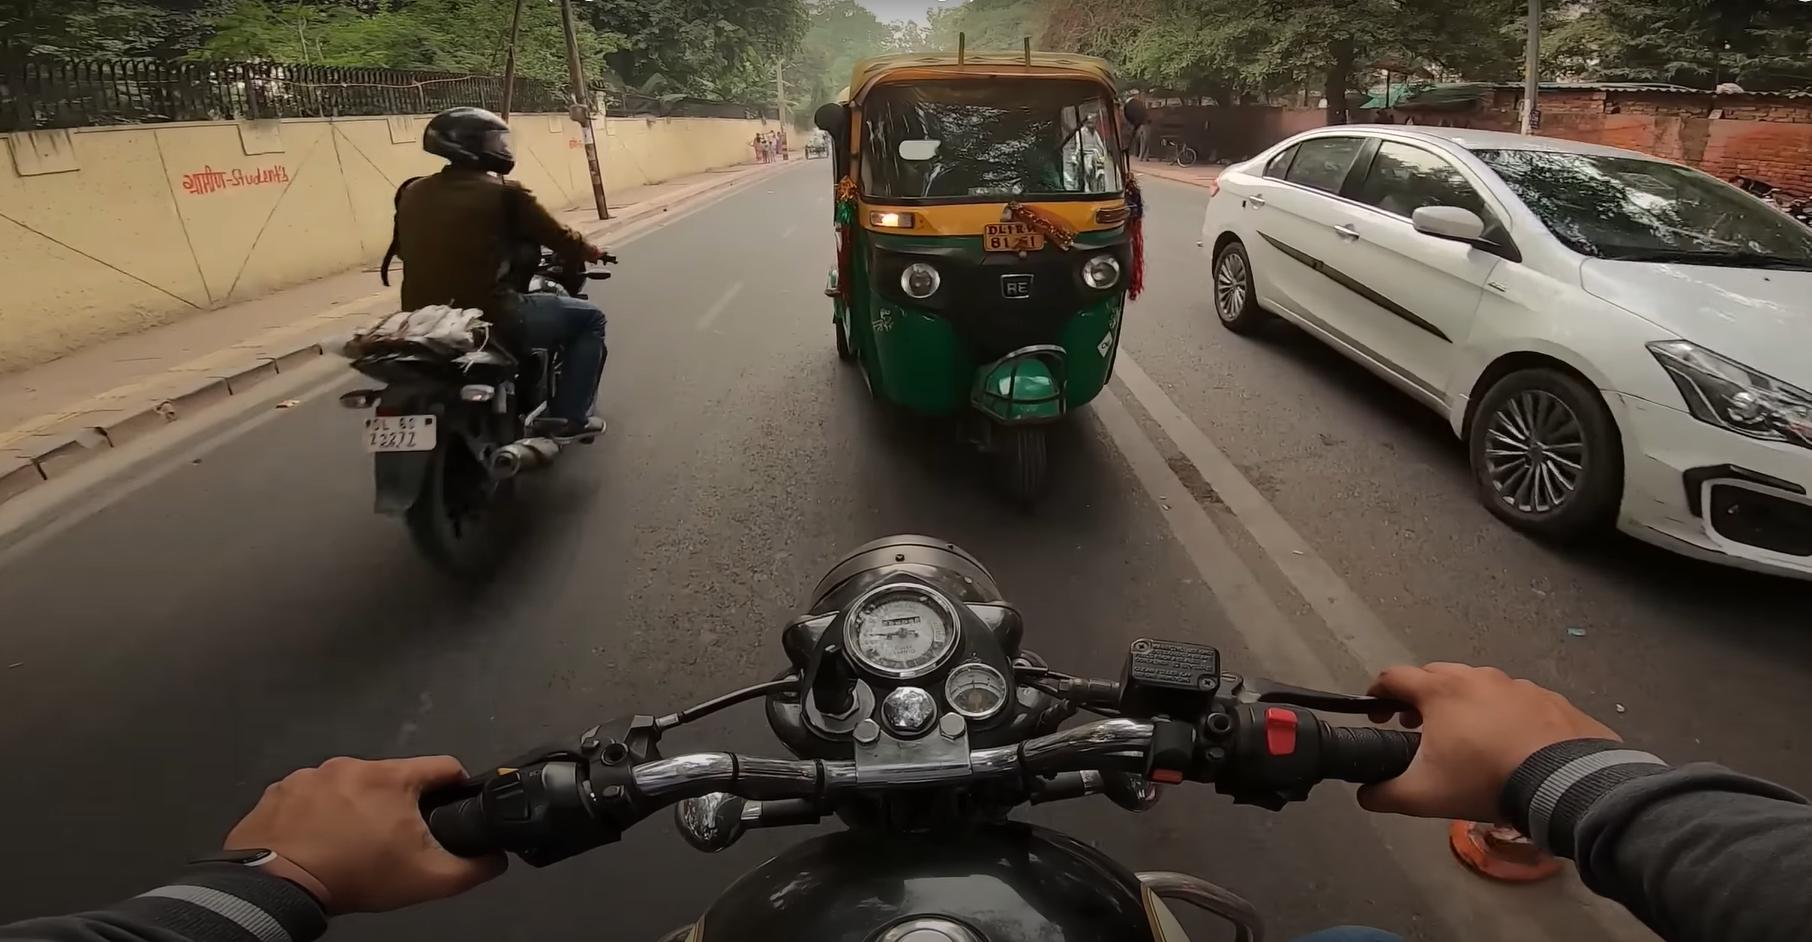rear: (341, 296, 485, 578)
